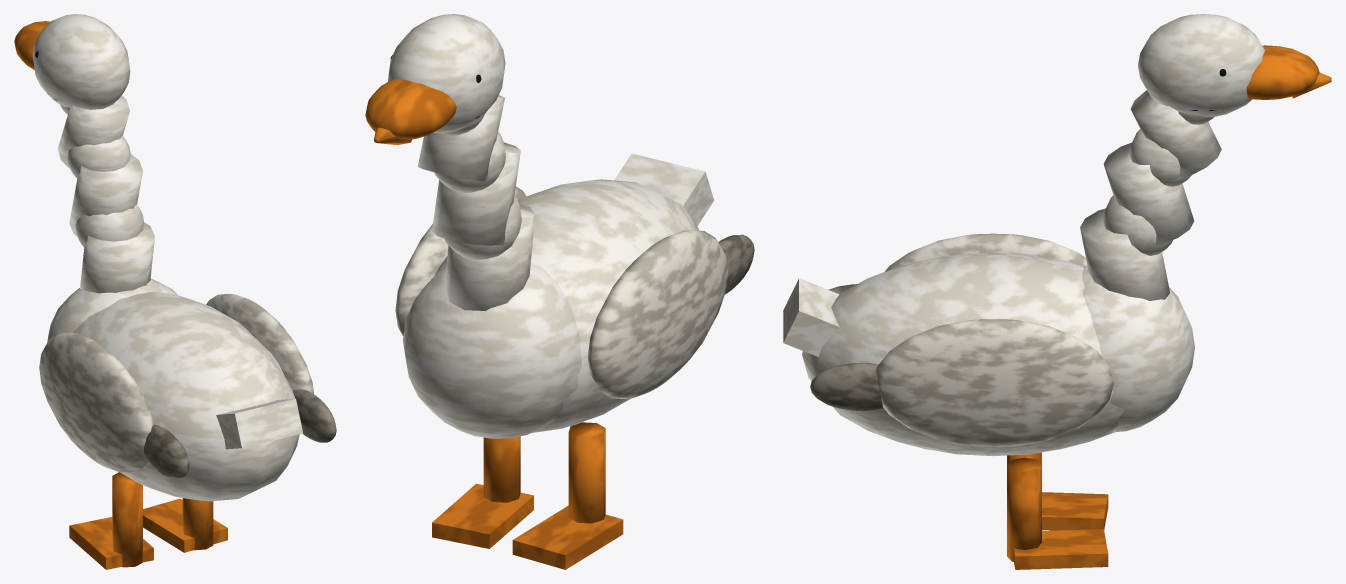
File: goose.glb
3 renders of one model, left to right at view 1: azimuth 30°, elevation 25°; view 2: azimuth 150°, elevation 25°; view 3: azimuth 270°, elevation 25°, orthographic. The views are drawn at different scales.
Visible parts, largest first — view 1: goose; view 2: goose; view 3: goose.
Part boxes in pixels (<box>): goose: <box>14,14,336,569</box>; goose: <box>365,14,754,569</box>; goose: <box>783,14,1331,569</box>.
Bounding box in the file's own units: 0.648 × 1.48 × 1.41.
Materials: 8 (8 with a texture image).
